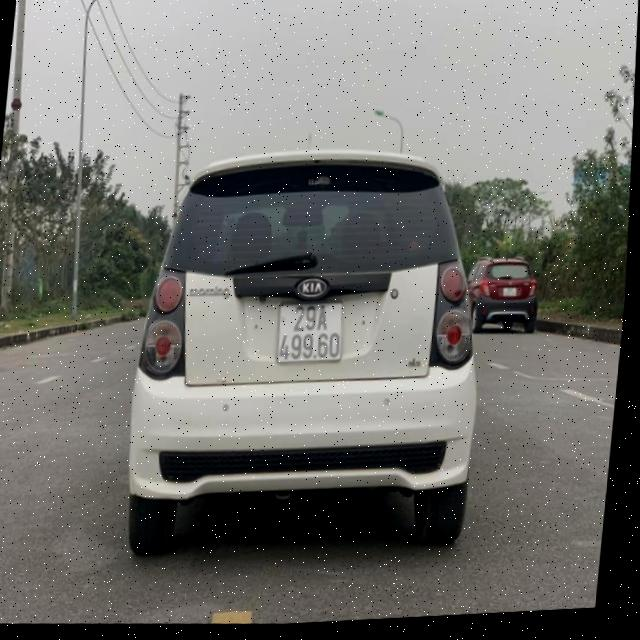car: (96, 132, 516, 578), (460, 249, 547, 340)
plate: (262, 292, 358, 375), (461, 251, 548, 336), (481, 268, 537, 314)
